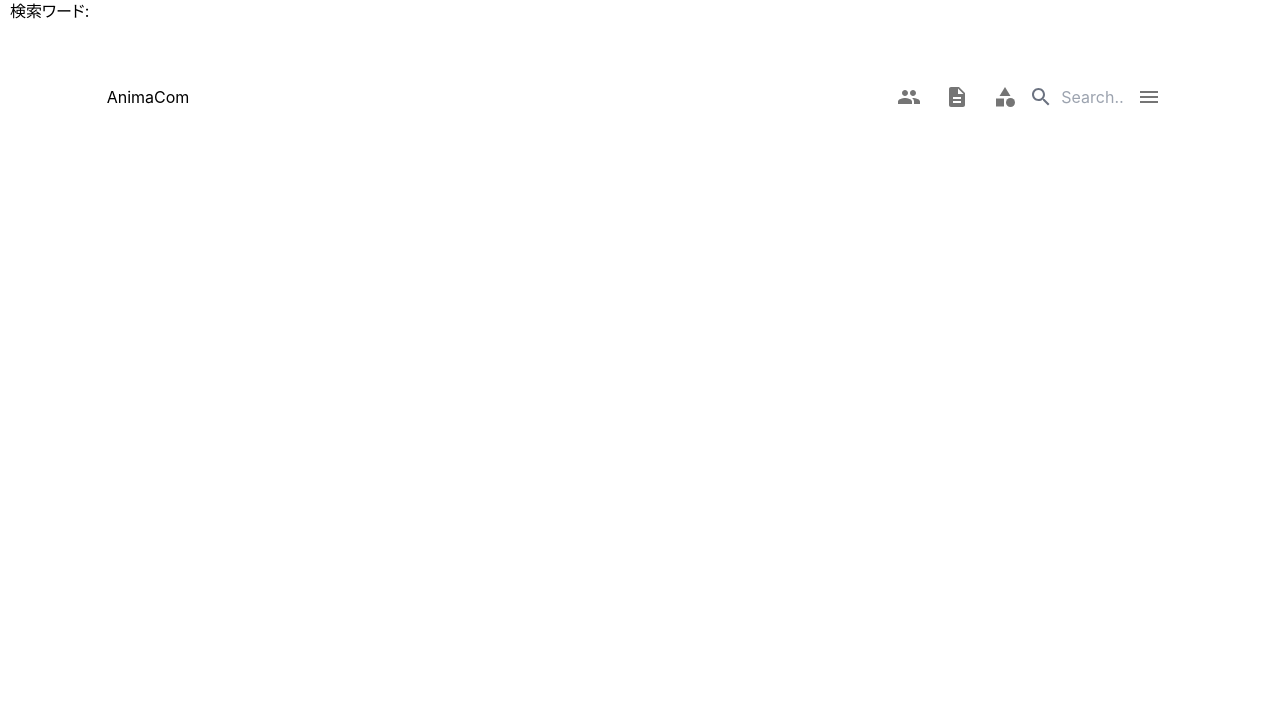
it: Rendering Header › ドロワー表示できる
Click the 5th button at (1149, 97), box [1125,73,1173,121]
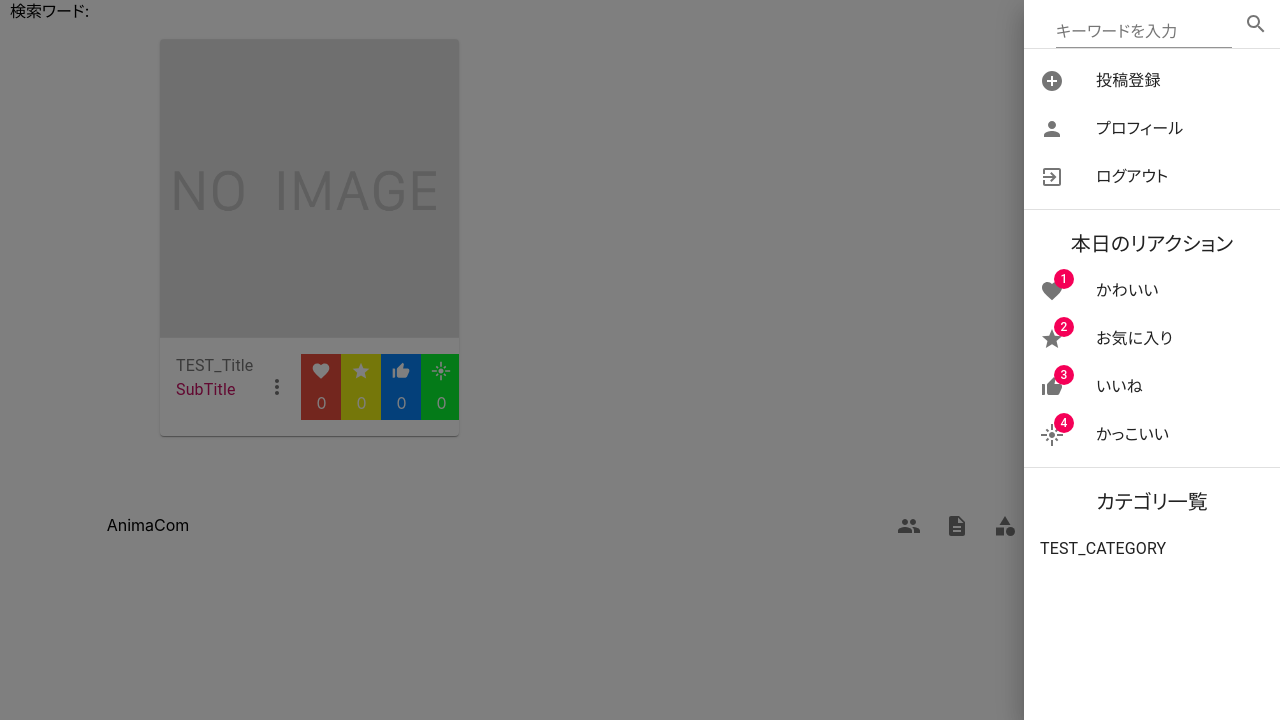
Expected: the text "本日のリアクション" is shown, [1071,232,1233,256]
